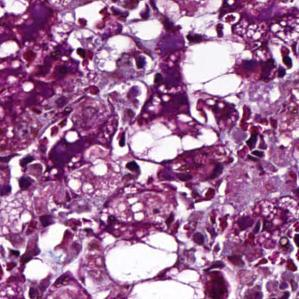ballooning: (177, 34, 262, 101), (122, 111, 222, 164), (101, 228, 181, 286)
